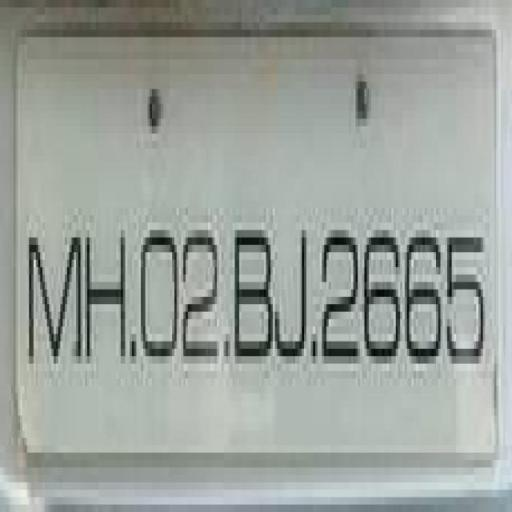number plate: (0, 0, 490, 490)
